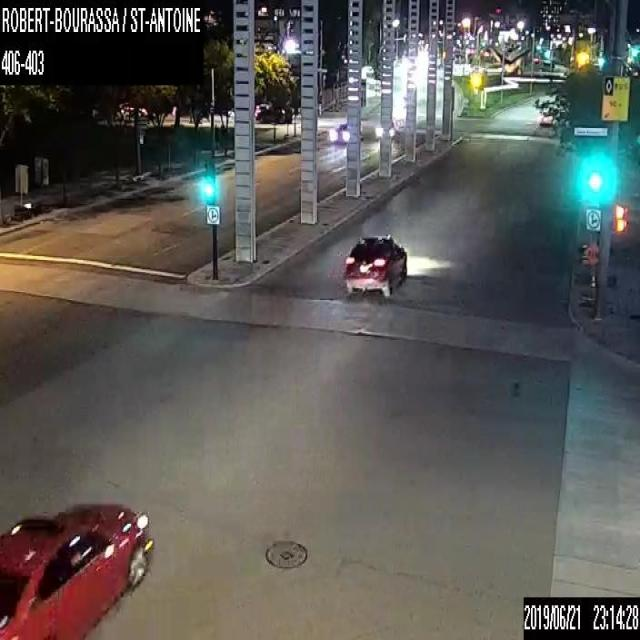construction: (581, 242, 597, 306)
vehicle: (0, 500, 149, 639), (343, 231, 407, 297), (33, 153, 52, 212), (13, 162, 32, 218), (330, 121, 346, 143), (377, 119, 394, 139), (536, 110, 553, 126)
